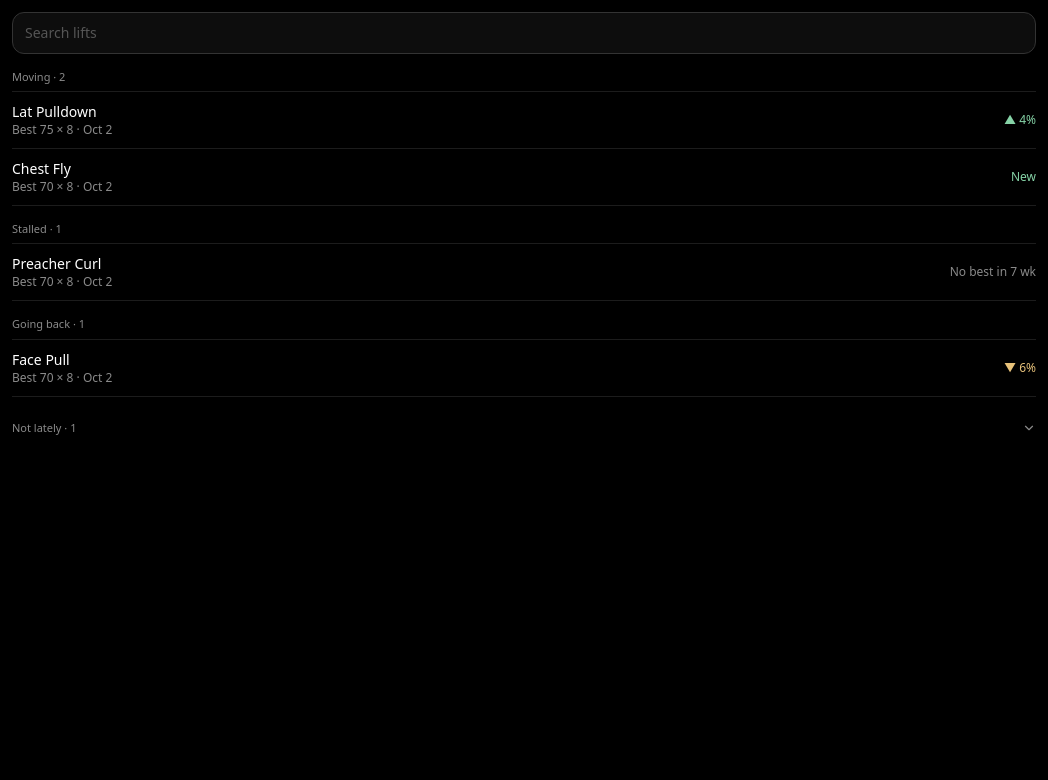
Test: Stats, a lift's detail › shows the best, and the all-time line only when it is higher
This screenshot has width=1048, height=780.
Click the button "Lat Pulldown Best 75 × 8 · Oct 2 ▲ 4%" at (54, 112), box [12, 92, 1036, 149]
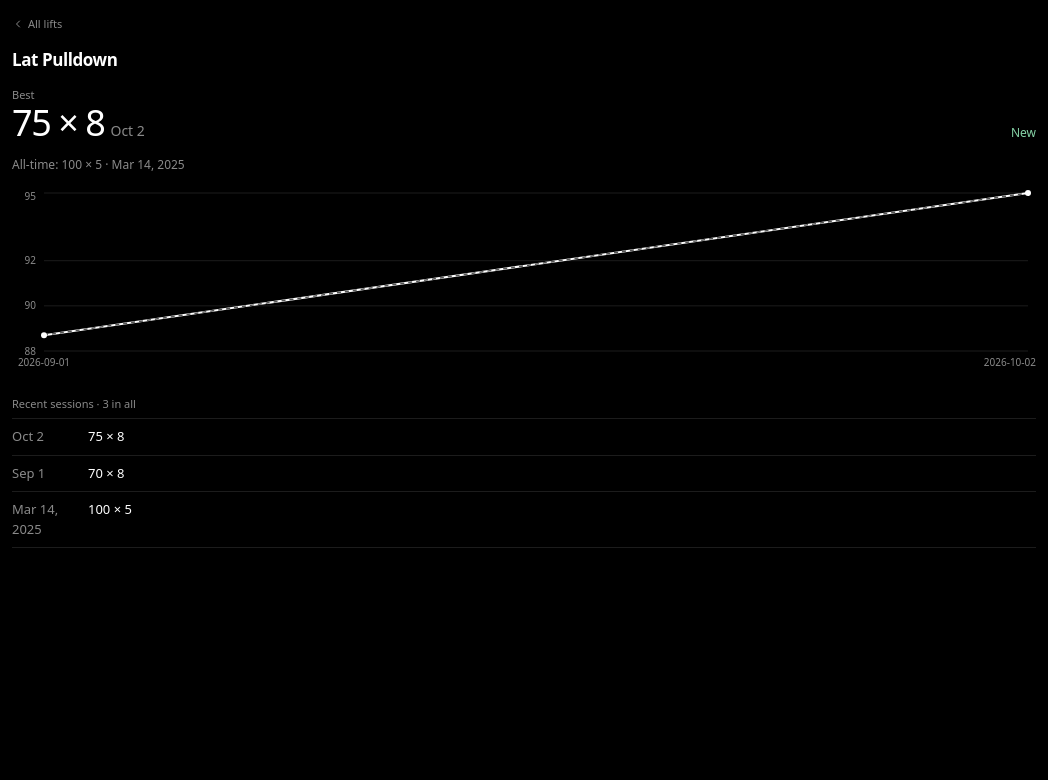
Expected: the text "75 × 8" is shown, [12, 98, 104, 147]
Expected: the text "All-time: 100 × 5 · Mar 14, 2025" is shown, [12, 156, 185, 173]
